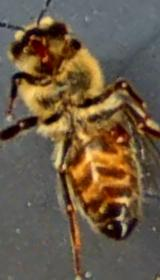varroa_mite: (100, 114, 136, 145)
